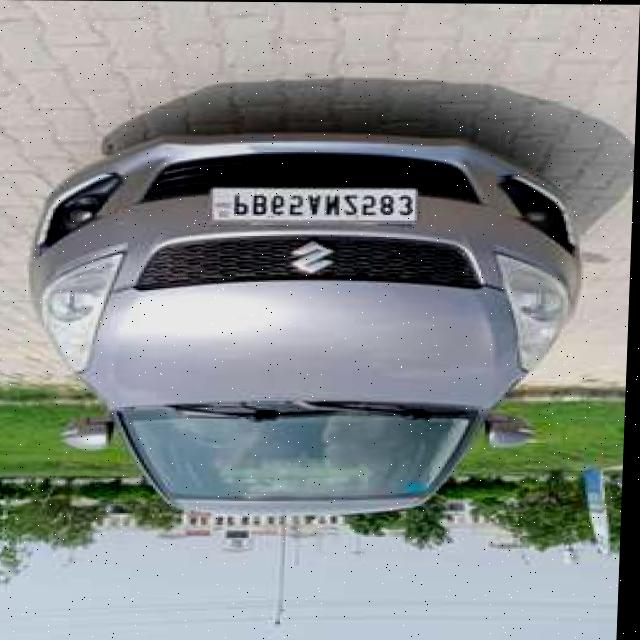plate: (209, 182, 422, 224)
